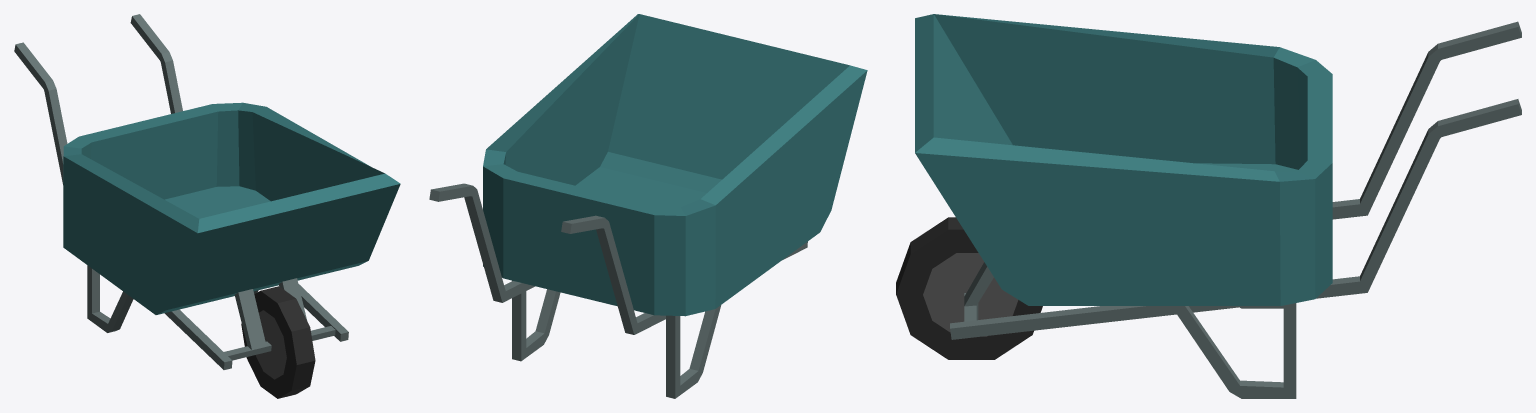
File: Wheelbarrow_1_Blue.fbx
The picture shows the model from 3 angles, left to right: view 1: azimuth 30°, elevation 25°; view 2: azimuth 150°, elevation 25°; view 3: azimuth 270°, elevation 25°; orthographic projection. The views are drawn at different scales.
Parts seen in each view (by area): view 1: Wheelbarrow_1_Blue; view 2: Wheelbarrow_1_Blue; view 3: Wheelbarrow_1_Blue.
Part boxes in pixels (bbox=[...]): Wheelbarrow_1_Blue: bbox=[14, 14, 400, 398]; Wheelbarrow_1_Blue: bbox=[429, 14, 867, 398]; Wheelbarrow_1_Blue: bbox=[896, 14, 1521, 398].
Bounding box in the file's own units: 112 × 113 × 220.
